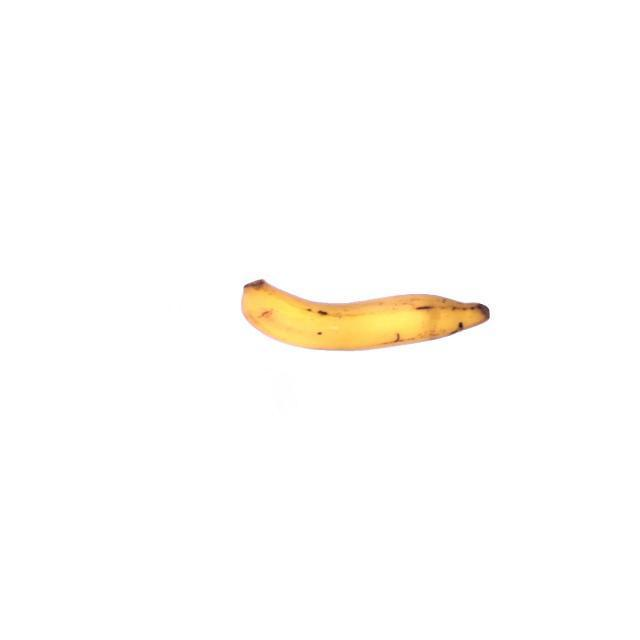Banana: (237, 276, 492, 356)
